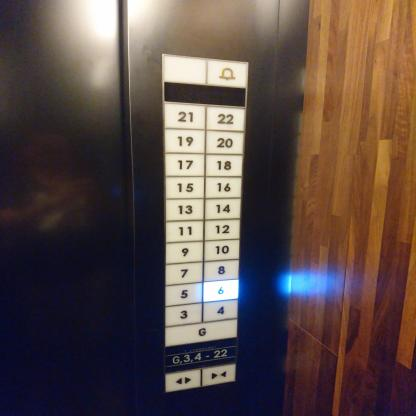10: (204, 240, 240, 260)
11: (164, 220, 204, 244)
12: (204, 219, 240, 240)
13: (164, 198, 205, 221)
14: (203, 197, 243, 220)
15: (164, 176, 206, 200)
16: (204, 175, 243, 199)
17: (162, 152, 205, 177)
18: (204, 152, 243, 176)
19: (161, 127, 206, 152)
20: (204, 129, 247, 154)
21: (162, 100, 208, 129)
22: (205, 104, 246, 130)
3: (162, 302, 204, 327)
4: (202, 300, 240, 323)
5: (164, 283, 202, 305)
6: (202, 278, 240, 304)
7: (164, 260, 204, 286)
8: (203, 259, 240, 283)
9: (164, 240, 204, 266)
G: (164, 320, 238, 348)
alarm: (205, 57, 250, 89)
close: (200, 362, 238, 388)
empty: (160, 52, 209, 86)
open: (164, 368, 202, 392)
